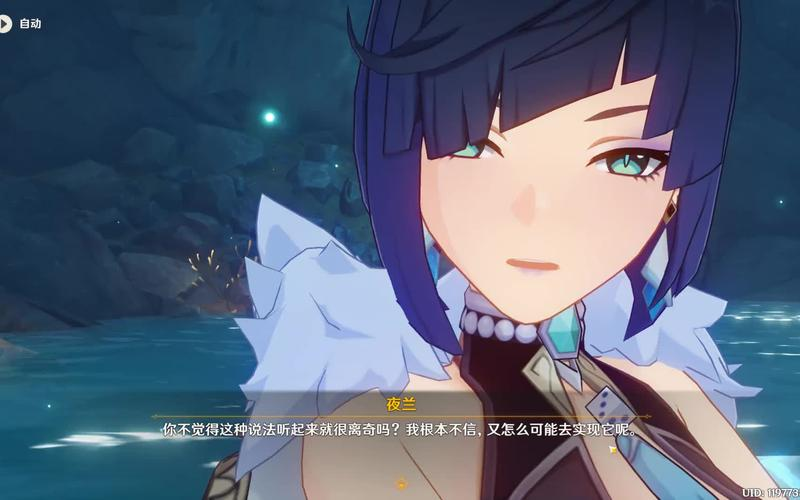夜兰: (302, 1, 791, 500)
